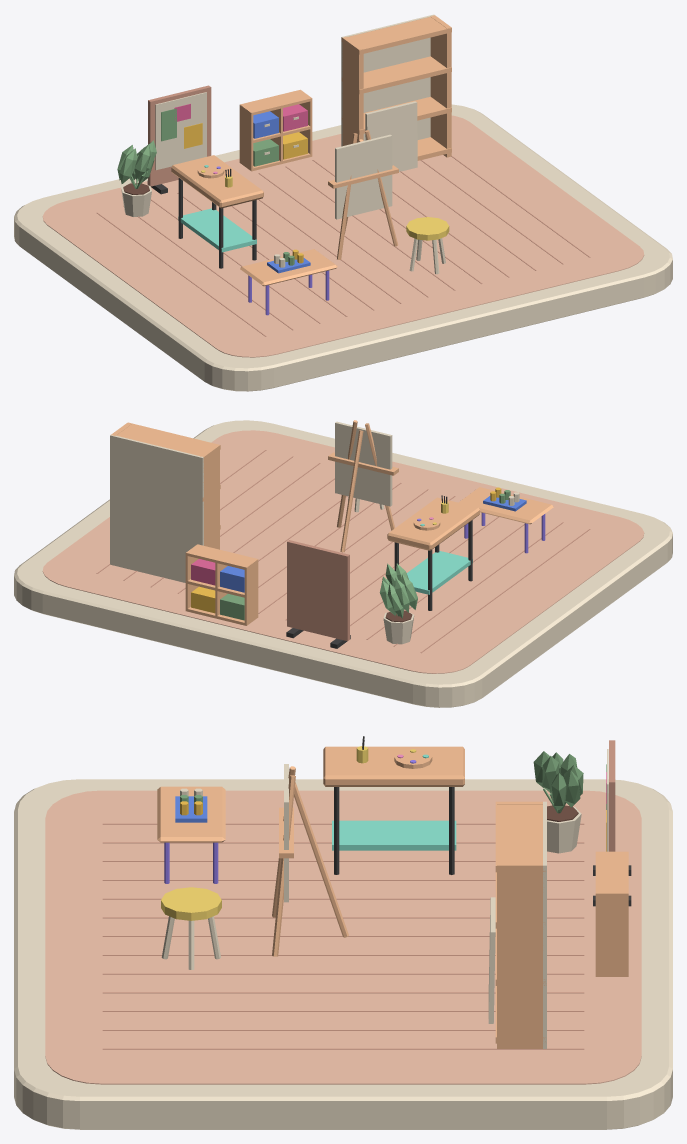
Rendered from room.fbx.
3 views of the same model, one above another, from view 1: azimuth 30°, elevation 25°; view 2: azimuth 150°, elevation 25°; view 3: azimuth 270°, elevation 25° (orthographic). The views are drawn at different scales.
Visible parts, largest first — view 1: COM-02 Floor Surface, COM-01 Rounded Base Direct, Canvas, Back, Blank canvas, Canvas.001, Worktop, Pot, Side.003, Side.002, Shelf.003, Shelf.002 (+11 smaller); view 2: COM-02 Floor Surface, COM-01 Rounded Base Direct, Back, Panel, Canvas, Worktop, Pot, Side.002, Lower shelf, Shelf.003, Rounded table top, Cubbies shelf.002 (+6 smaller); view 3: COM-02 Floor Surface, COM-01 Rounded Base Direct, Side.003, Worktop, Lower shelf, Pot, Shelf.003, Rounded table top, Cubbies divider.002, Seat, Cubbies shelf.002, Rear leg (+11 smaller).
Boxes of the visible parts, x1=… form: COM-02 Floor Surface: x1=42, y1=115, x2=644, y2=357; COM-01 Rounded Base Direct: x1=14, y1=104, x2=672, y2=391; Canvas: x1=335, y1=134, x2=392, y2=219; Back: x1=341, y1=14, x2=434, y2=146; Blank canvas: x1=365, y1=101, x2=417, y2=171; Canvas.001: x1=155, y1=92, x2=206, y2=170; Worktop: x1=171, y1=155, x2=263, y2=208; Pot: x1=117, y1=140, x2=156, y2=216; Side.003: x1=430, y1=15, x2=451, y2=157; Side.002: x1=342, y1=37, x2=363, y2=145; Shelf.003: x1=341, y1=17, x2=451, y2=54; Shelf.002: x1=341, y1=56, x2=451, y2=94; COM-02 Floor Surface: x1=42, y1=430, x2=644, y2=673; COM-01 Rounded Base Direct: x1=14, y1=420, x2=672, y2=707; Back: x1=110, y1=434, x2=203, y2=582; Panel: x1=287, y1=540, x2=349, y2=641; Canvas: x1=335, y1=421, x2=392, y2=506; Worktop: x1=387, y1=497, x2=479, y2=550; Pot: x1=379, y1=563, x2=417, y2=644; Side.002: x1=199, y1=444, x2=219, y2=549; Lower shelf: x1=406, y1=551, x2=472, y2=594; Shelf.003: x1=116, y1=422, x2=220, y2=456; Rounded table top: x1=459, y1=487, x2=553, y2=524; Cubbies shelf.002: x1=186, y1=544, x2=257, y2=569; COM-02 Floor Surface: x1=45, y1=790, x2=641, y2=1084; COM-01 Rounded Base Direct: x1=14, y1=779, x2=672, y2=1129; Side.003: x1=497, y1=862, x2=542, y2=1048; Worktop: x1=323, y1=746, x2=464, y2=786; Lower shelf: x1=332, y1=820, x2=456, y2=850; Pot: x1=533, y1=751, x2=583, y2=853; Shelf.003: x1=495, y1=801, x2=545, y2=872; Rounded table top: x1=157, y1=786, x2=225, y2=842; Cubbies divider.002: x1=595, y1=894, x2=628, y2=976; Seat: x1=161, y1=887, x2=221, y2=920; Cubbies shelf.002: x1=595, y1=851, x2=628, y2=893; Rear leg: x1=294, y1=782, x2=348, y2=937.
Bounding box in the file's own units: 600 × 190 × 520.
